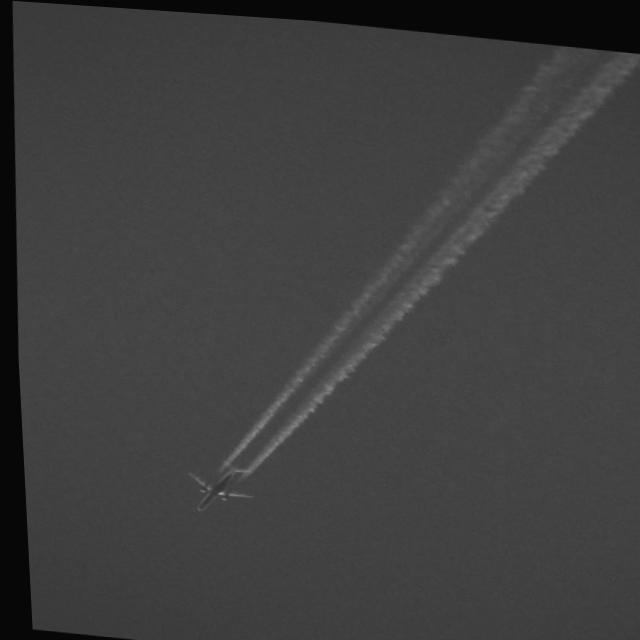aeroplane: (173, 450, 257, 519)
